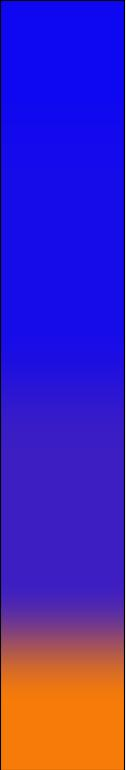Thermal Runaway: (6, 722, 119, 765)
critical: (5, 624, 119, 716)
safe: (5, 5, 119, 620)
